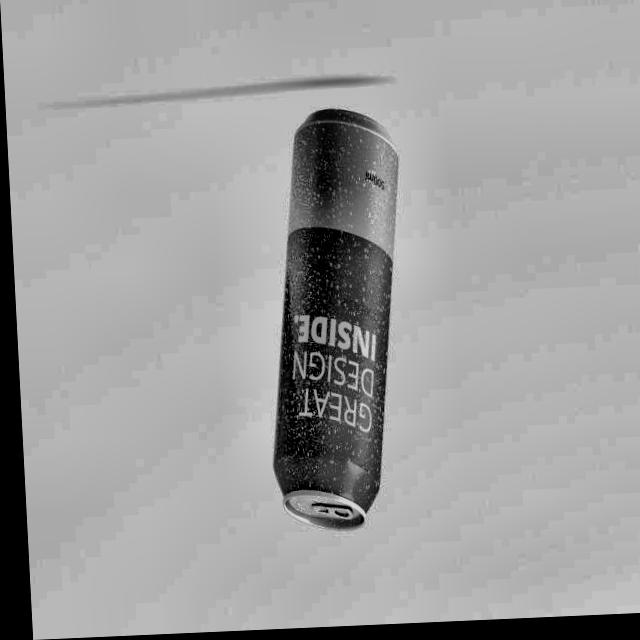can: (243, 99, 416, 544)
